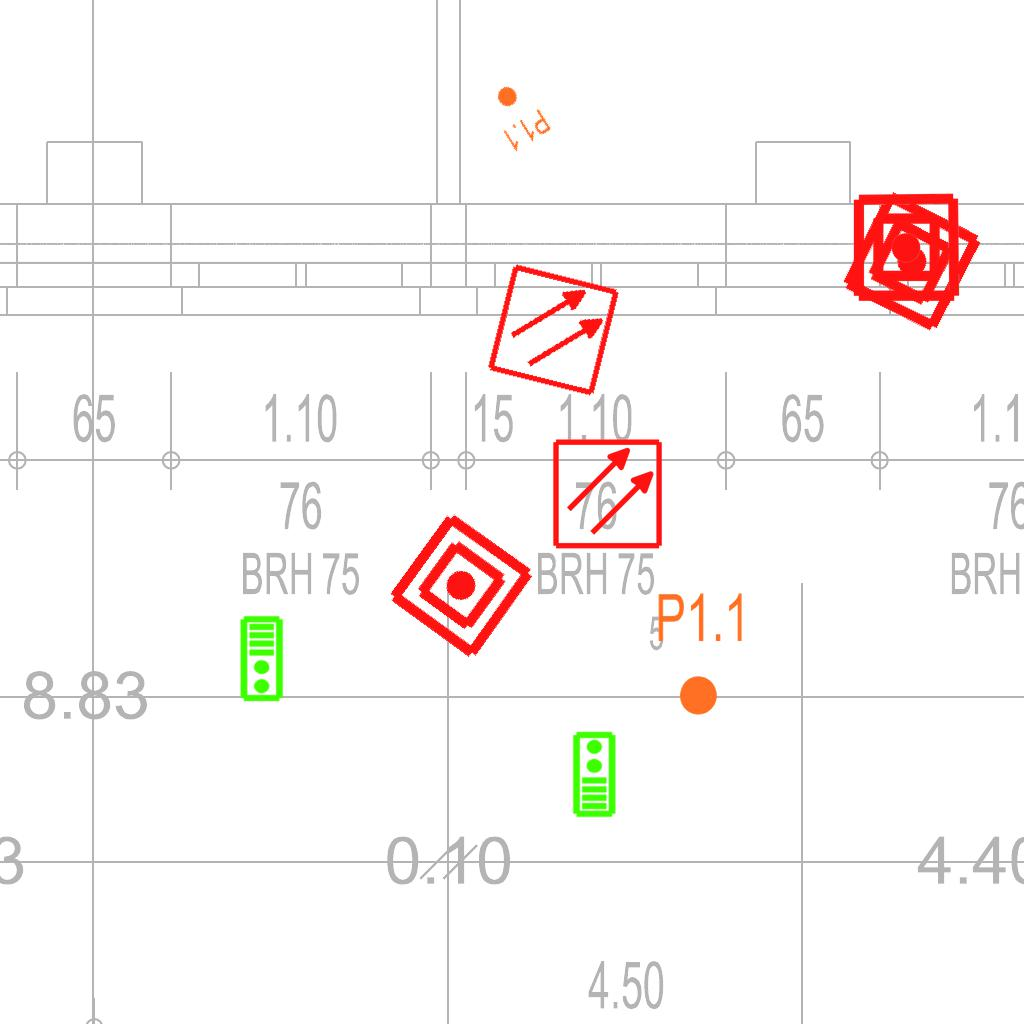Downlight_LED_Einbauleuchten_Flur: (655, 590, 748, 718), (480, 75, 554, 155)
Gegensprechanlage_mit_Video: (239, 615, 286, 703), (570, 730, 617, 818)
NAM-Nichtautomatischer_Melder: (382, 506, 541, 665), (835, 185, 988, 338), (850, 191, 963, 304)
RMO_Rauchmelder_optischer: (485, 261, 622, 398), (551, 437, 664, 550)
